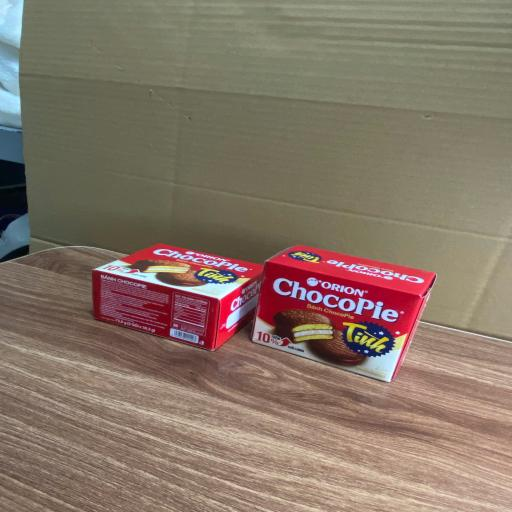chocopie: (254, 245, 438, 382), (91, 241, 267, 349)
